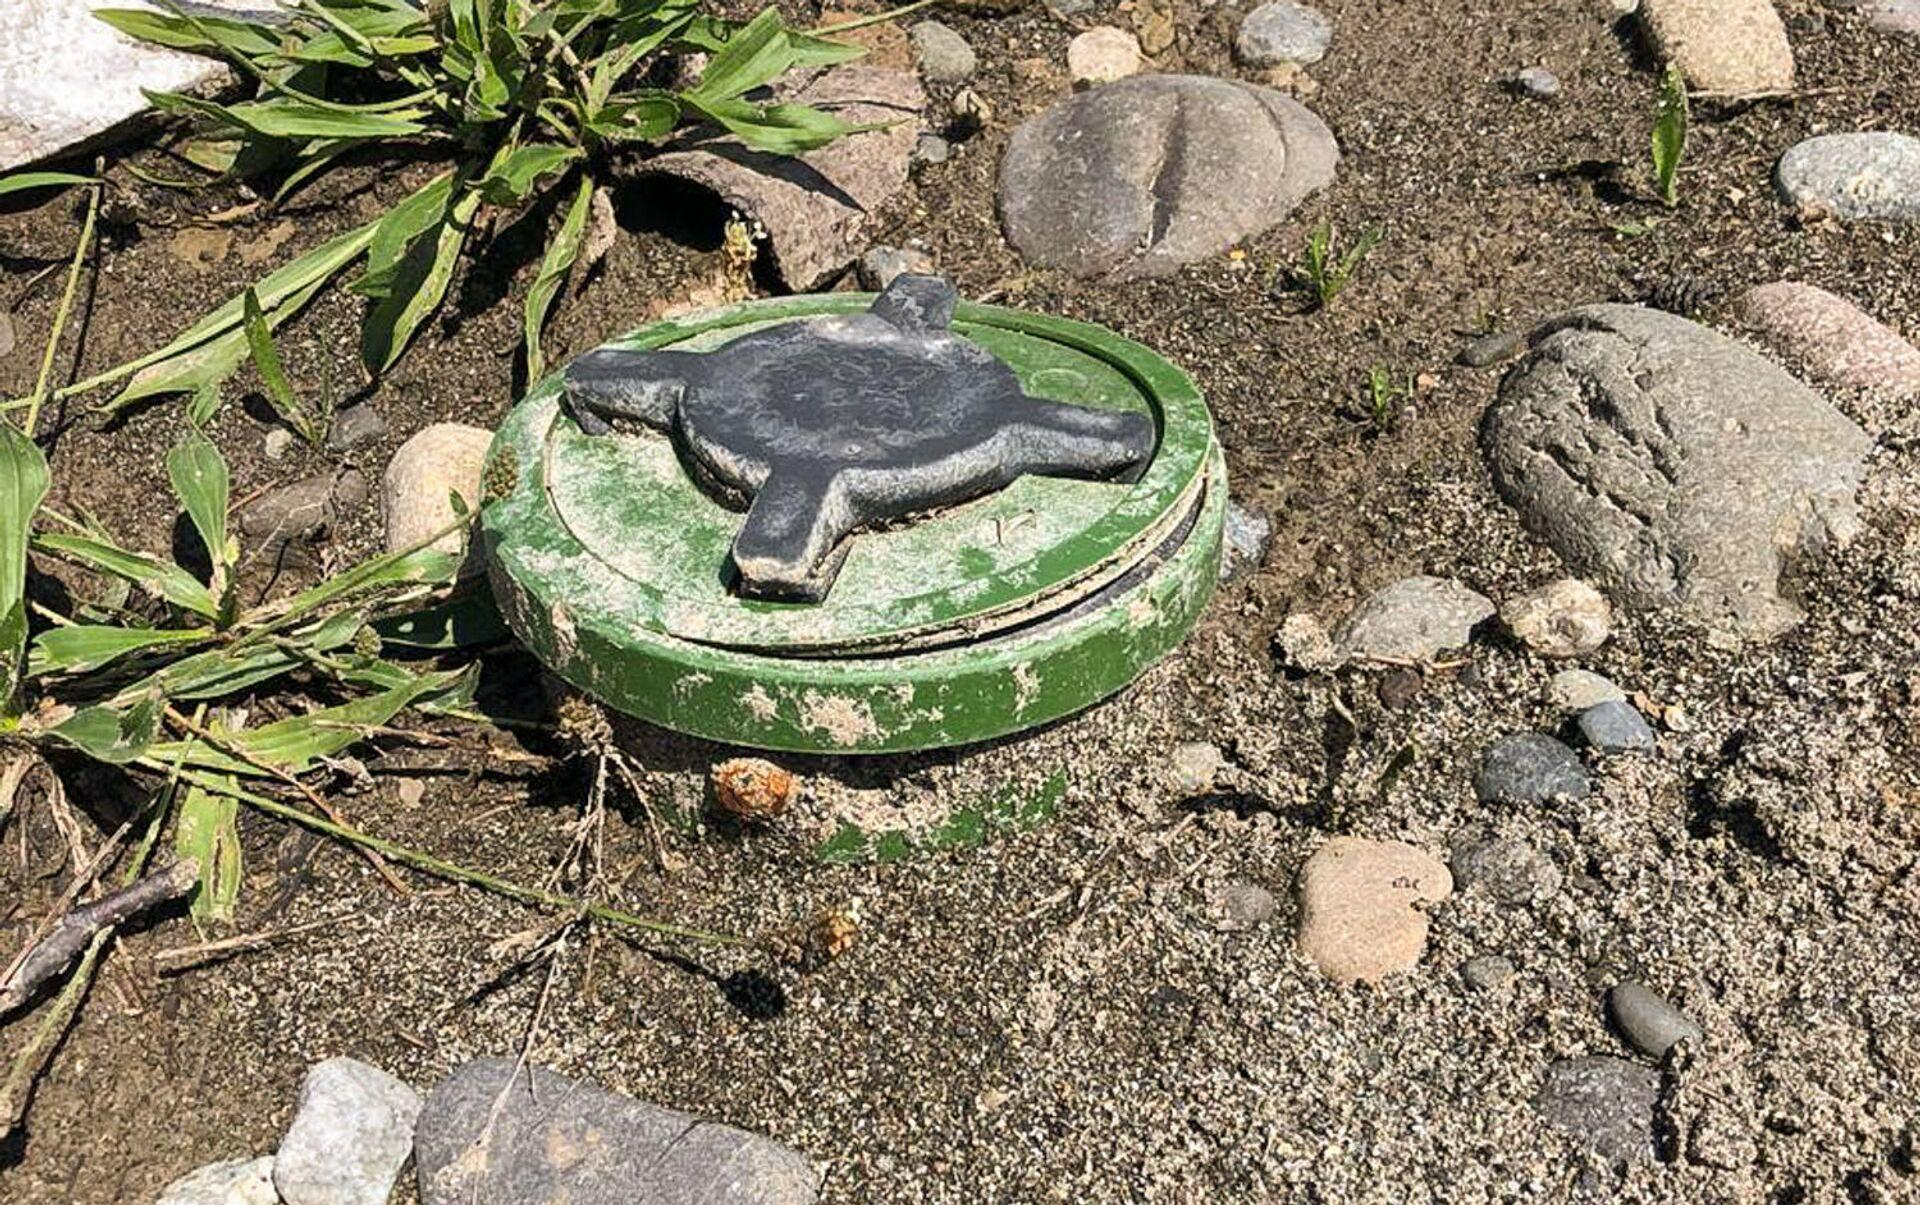pmn: (466, 261, 1240, 877)
